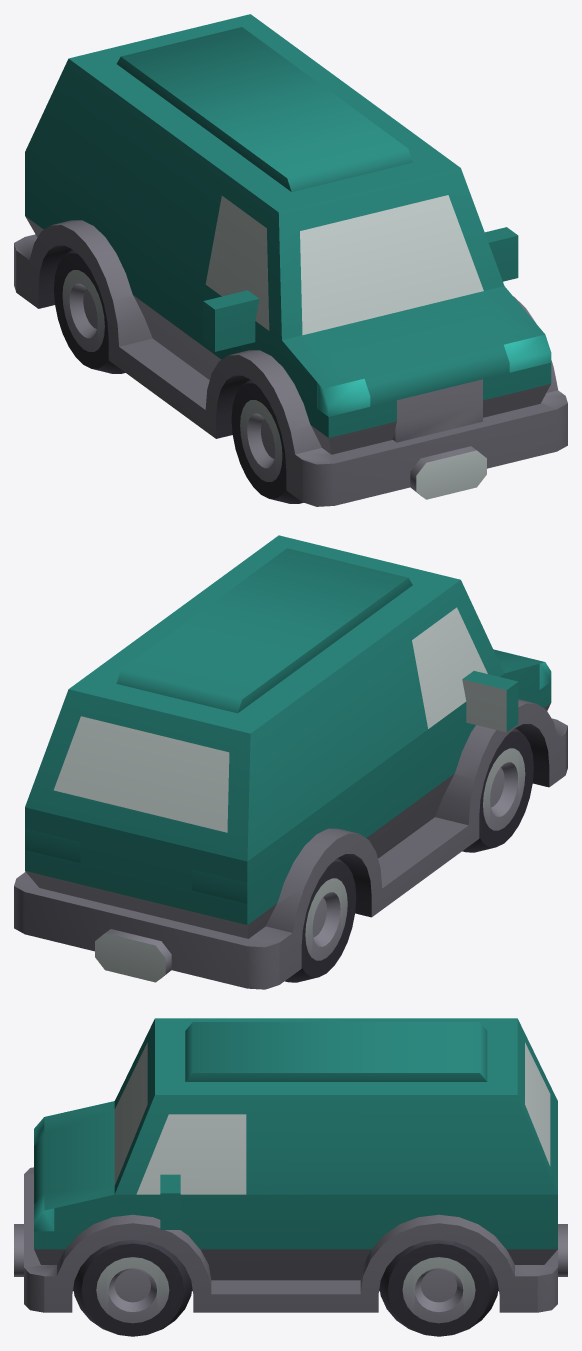
Rendered from van_teal.glb.
3 renders of one model, top to bottom at view 1: azimuth 30°, elevation 25°; view 2: azimuth 150°, elevation 25°; view 3: azimuth 270°, elevation 25°, orthographic. The views are drawn at different scales.
Visible parts, largest first — view 1: van_teal; view 2: van_teal; view 3: van_teal.
Part boxes in pixels (left/top/right/bottom): van_teal: left=14, top=14, right=567, bottom=506; van_teal: left=14, top=535, right=567, bottom=989; van_teal: left=14, top=1018, right=567, bottom=1336.
Size of the model in its own units: 1.5 by 1.35 by 2.75.
